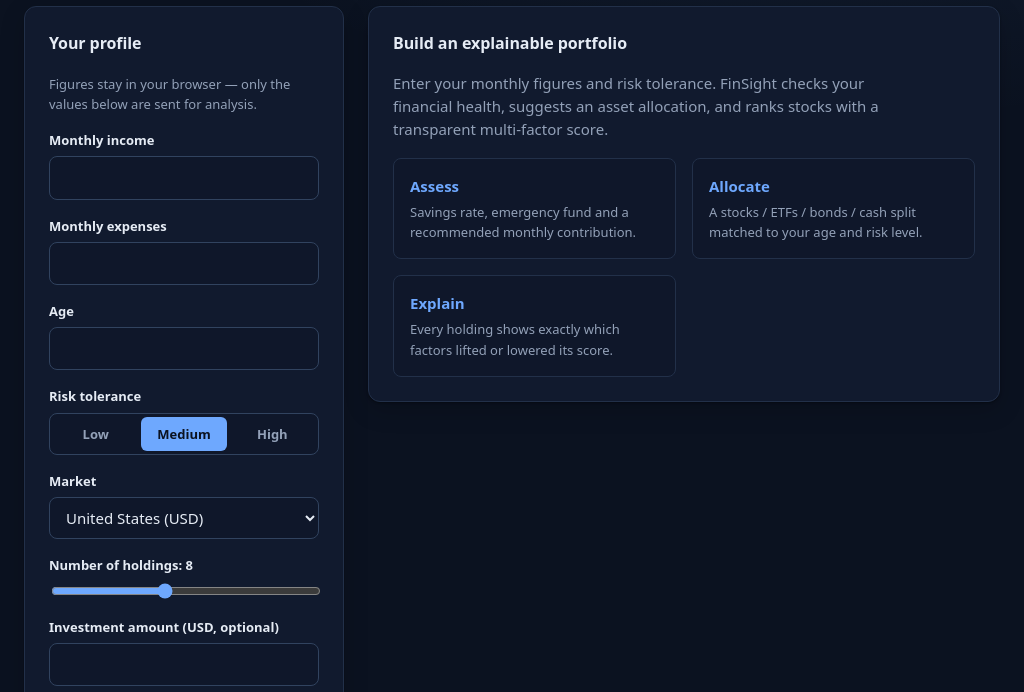
Test case: App › shows a dismissible warning and keeps health and allocation when the portfolio is null
Type "5000" into the number field labelled "Monthly income" at (184, 178), box [49,156,319,200]
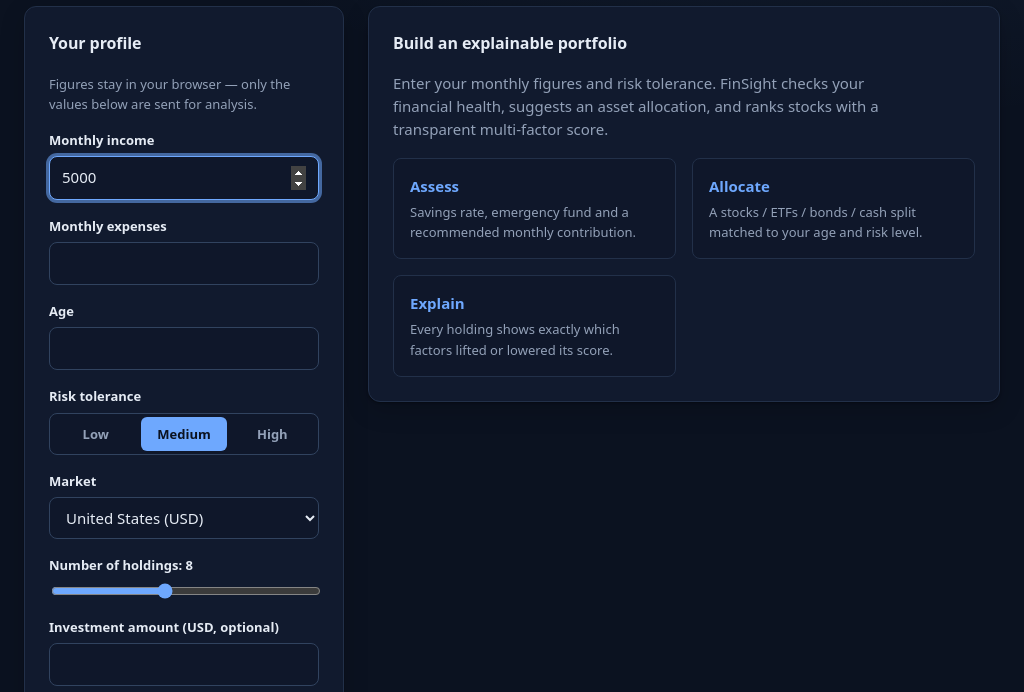
Type "3000" into the number field labelled "Monthly expenses" at (184, 263), box [49,242,319,285]
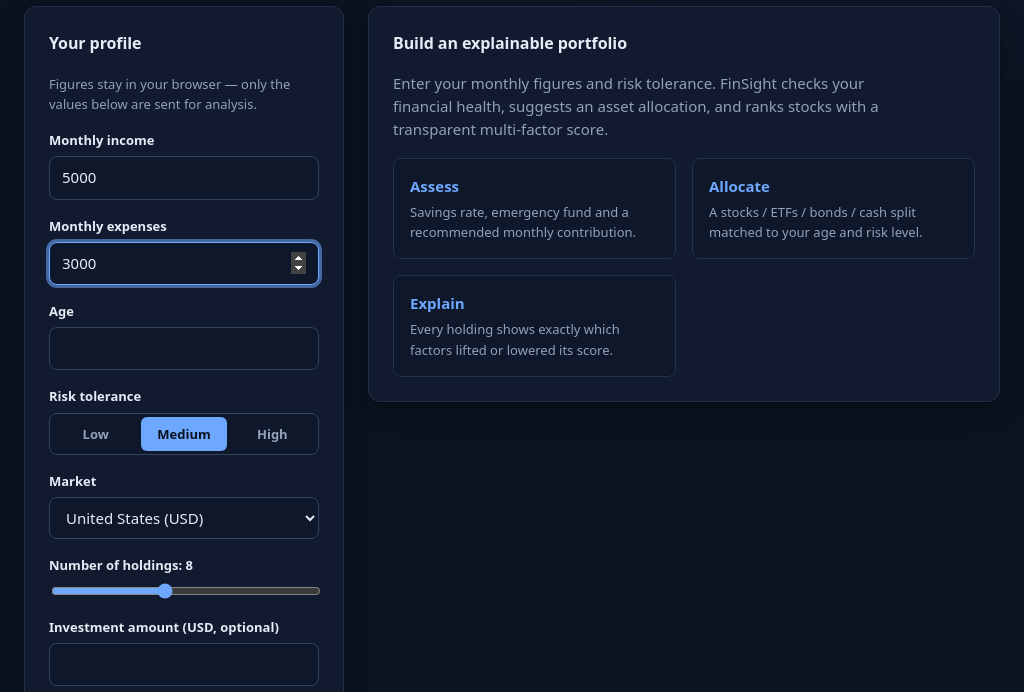
Type "30" into the number field labelled "Age" at (184, 349), box [49,327,319,370]
(page scrolled)
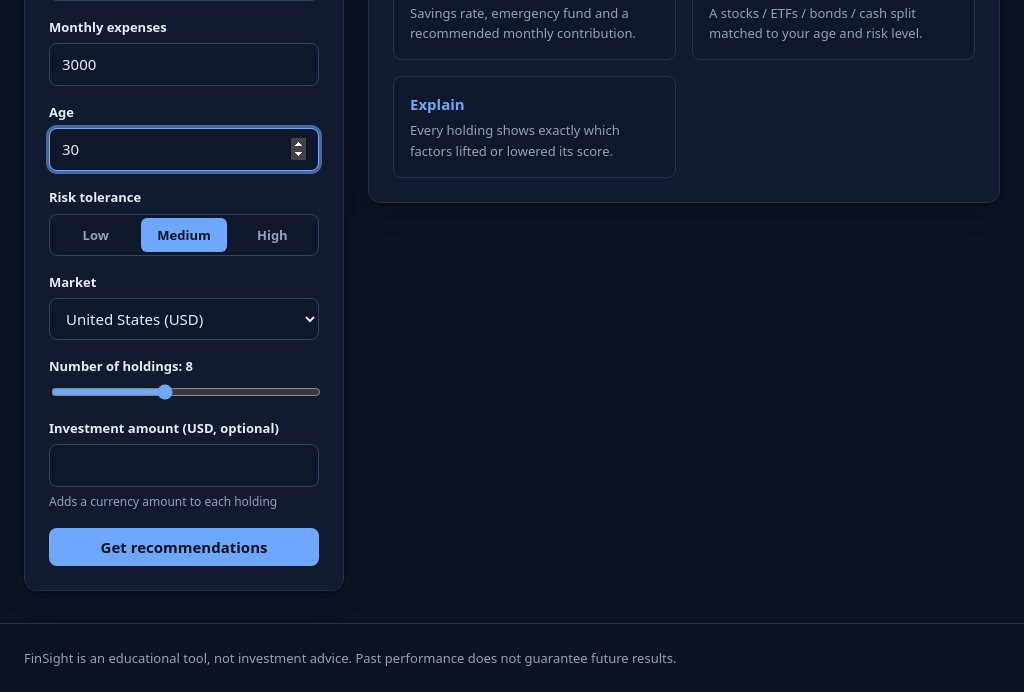
Click the button "Get recommendations" at (184, 547), box [49,528,319,566]
(page scrolled)
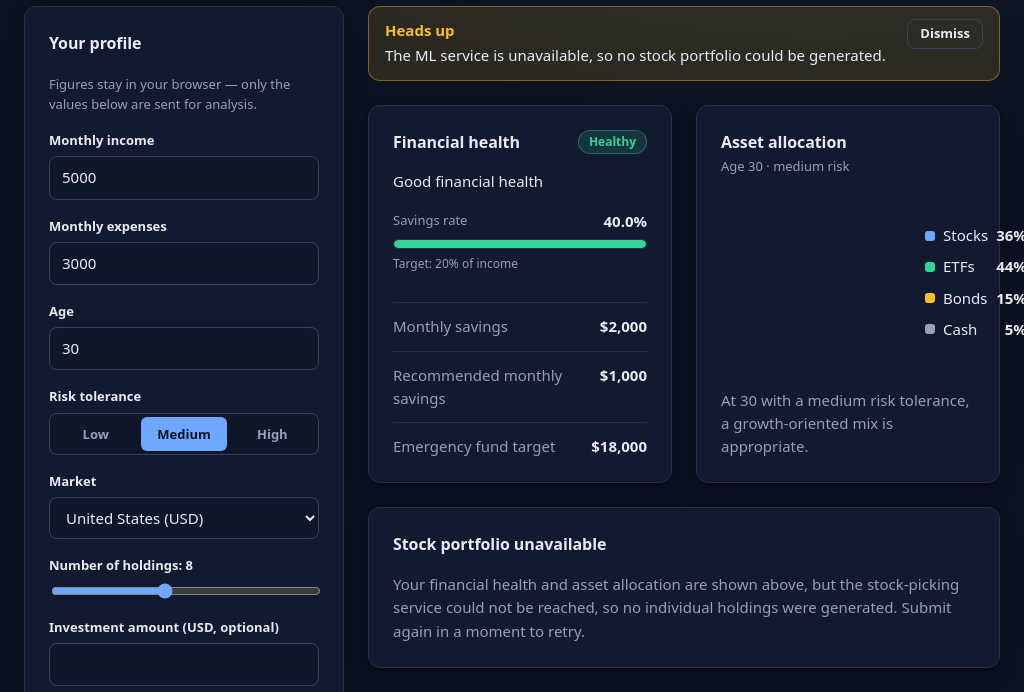
Expected: the list item "The ML service is unavailable" is shown, [385,45,886,65]
Expected: the element "Financial health" is shown, [368,105,672,483]
Expected: the element "Asset allocation" is shown, [696,105,1000,483]
Click the button with aria-label "Dismiss warnings" at (945, 34), box [907,19,983,49]
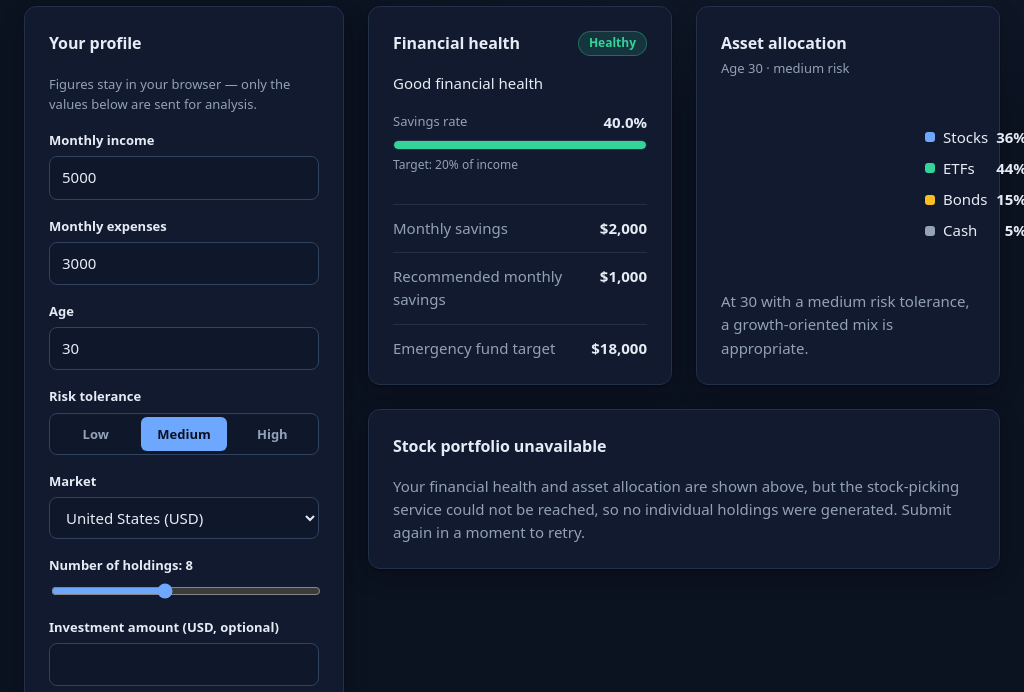
Expected: the list item "The ML service is unavailable" is gone
